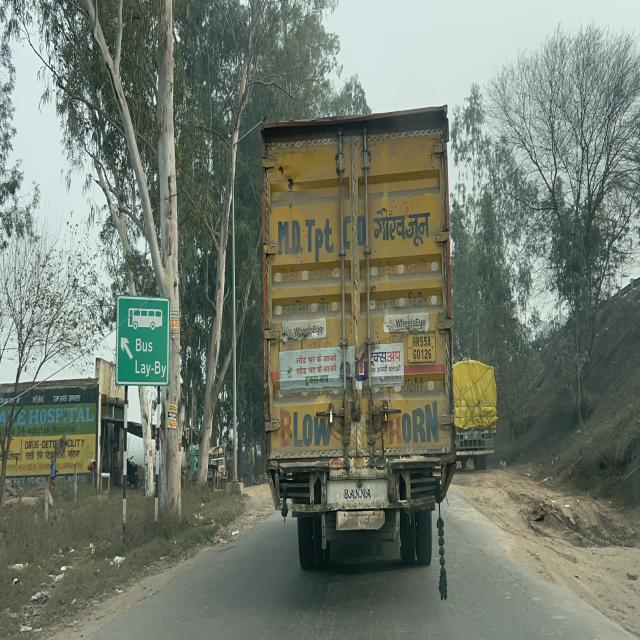GENERAL: (114, 294, 170, 387)
